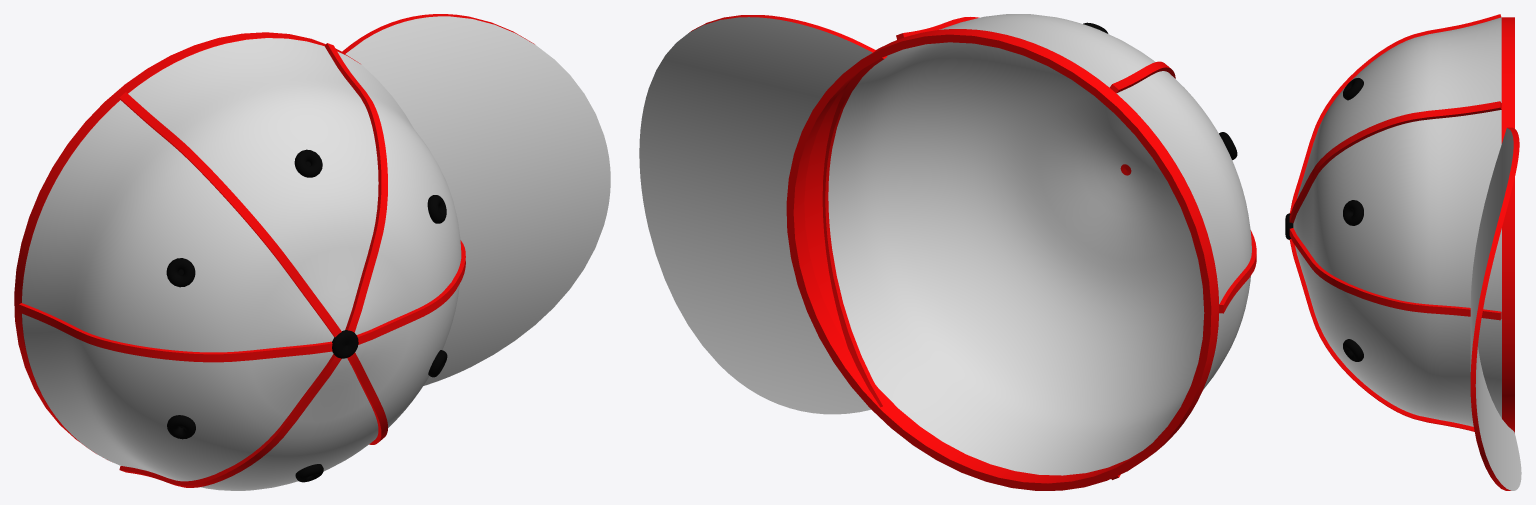
File: Baseball.glb
The picture shows the model from 3 angles, left to right: view 1: azimuth 30°, elevation 25°; view 2: azimuth 150°, elevation 25°; view 3: azimuth 270°, elevation 25°; orthographic projection. The views are drawn at different scales.
Bounding box in the file's own units: 28.62 × 20.32 × 11.44.
